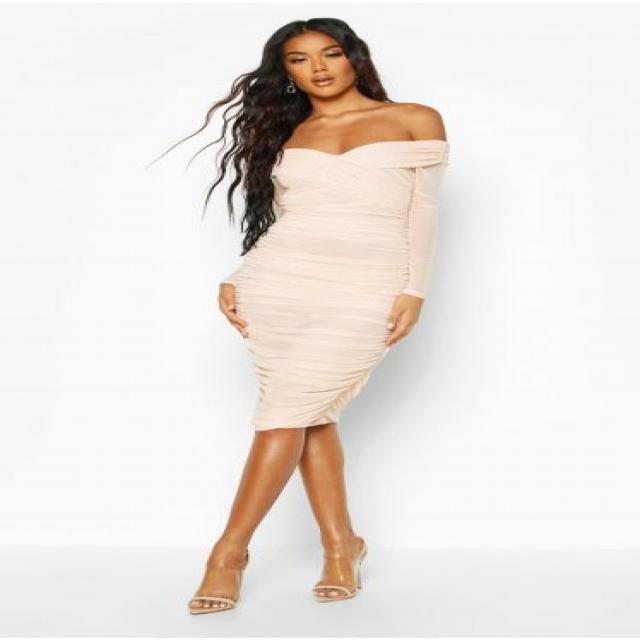clothes: (204, 135, 473, 440)
